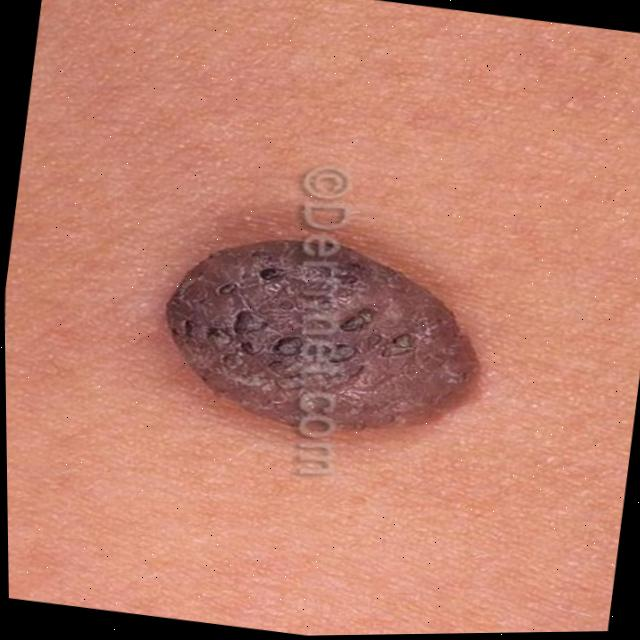Eczema: (160, 220, 450, 432)
